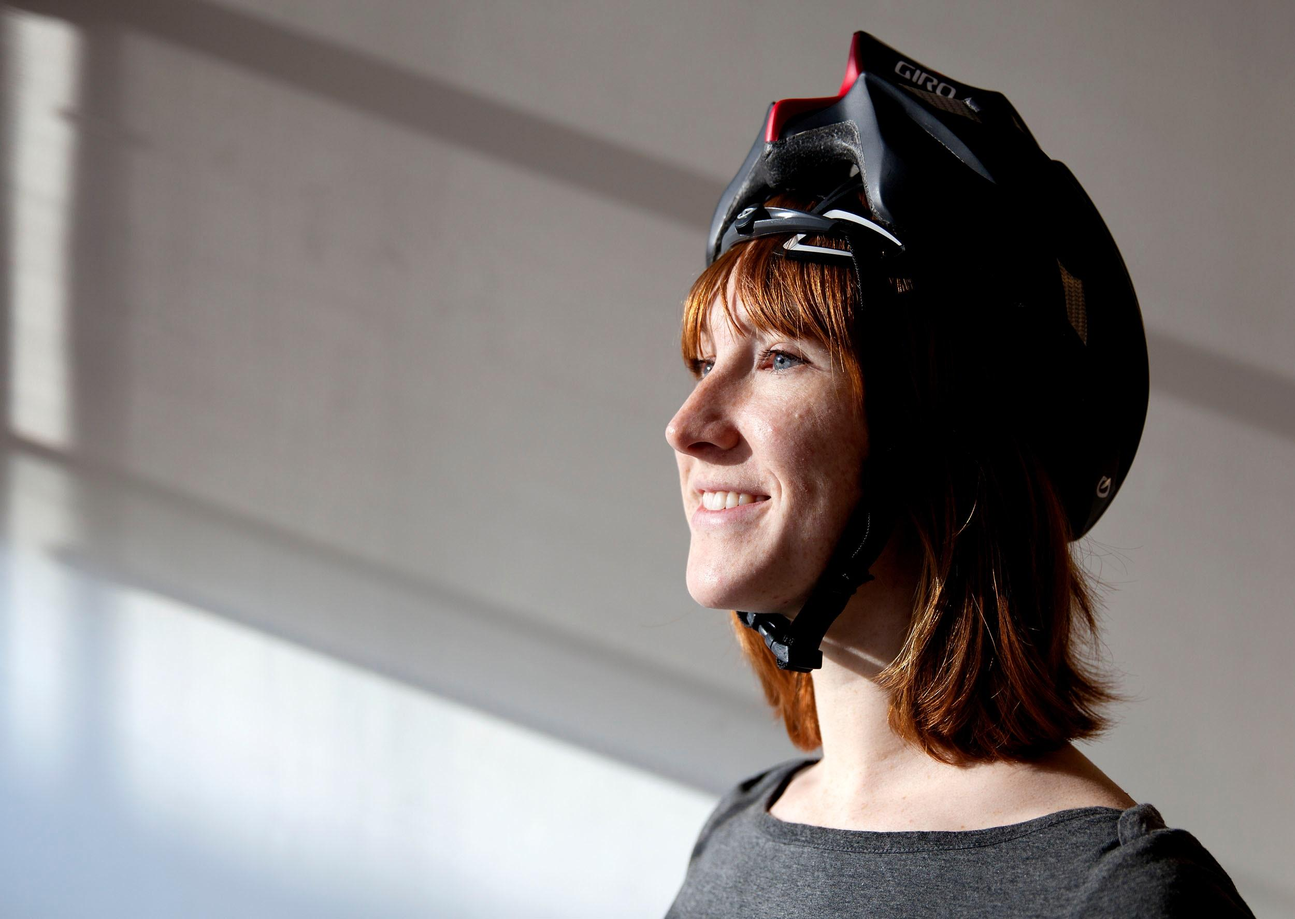helmet: (755, 41, 1079, 318)
